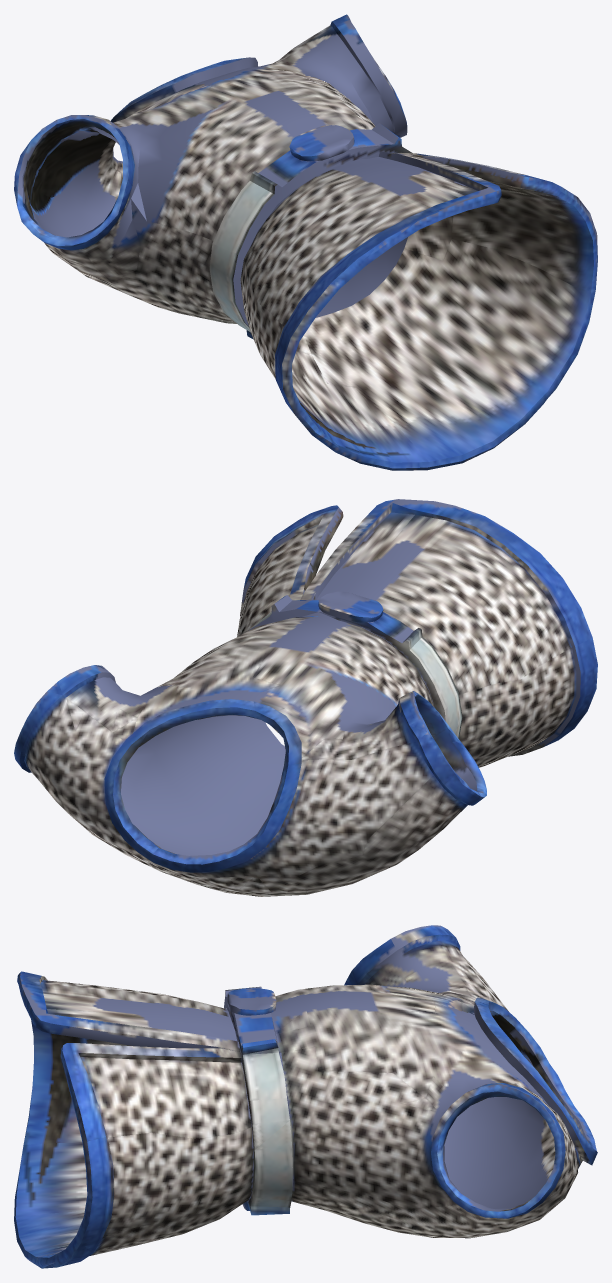
The model's file is item_mm9_10225.glb.
3 views of the same model, one above another, from view 1: azimuth 30°, elevation 25°; view 2: azimuth 150°, elevation 25°; view 3: azimuth 270°, elevation 25° (orthographic). The views are drawn at different scales.
Parts seen in each view (by area): view 1: d10225; view 2: d10225; view 3: d10225.
Boxes of the visible parts, <box> form: d10225: <box>14,14,597,470</box>; d10225: <box>14,499,597,896</box>; d10225: <box>14,925,597,1268</box>.
Bounding box in the file's own units: 0.8355 × 0.4861 × 1.01.
Materials: 1 (1 with a texture image).
